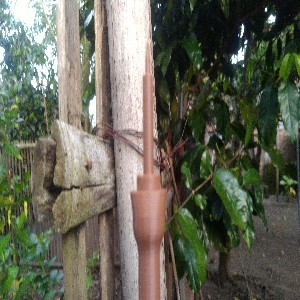solder: (130, 41, 168, 300)
